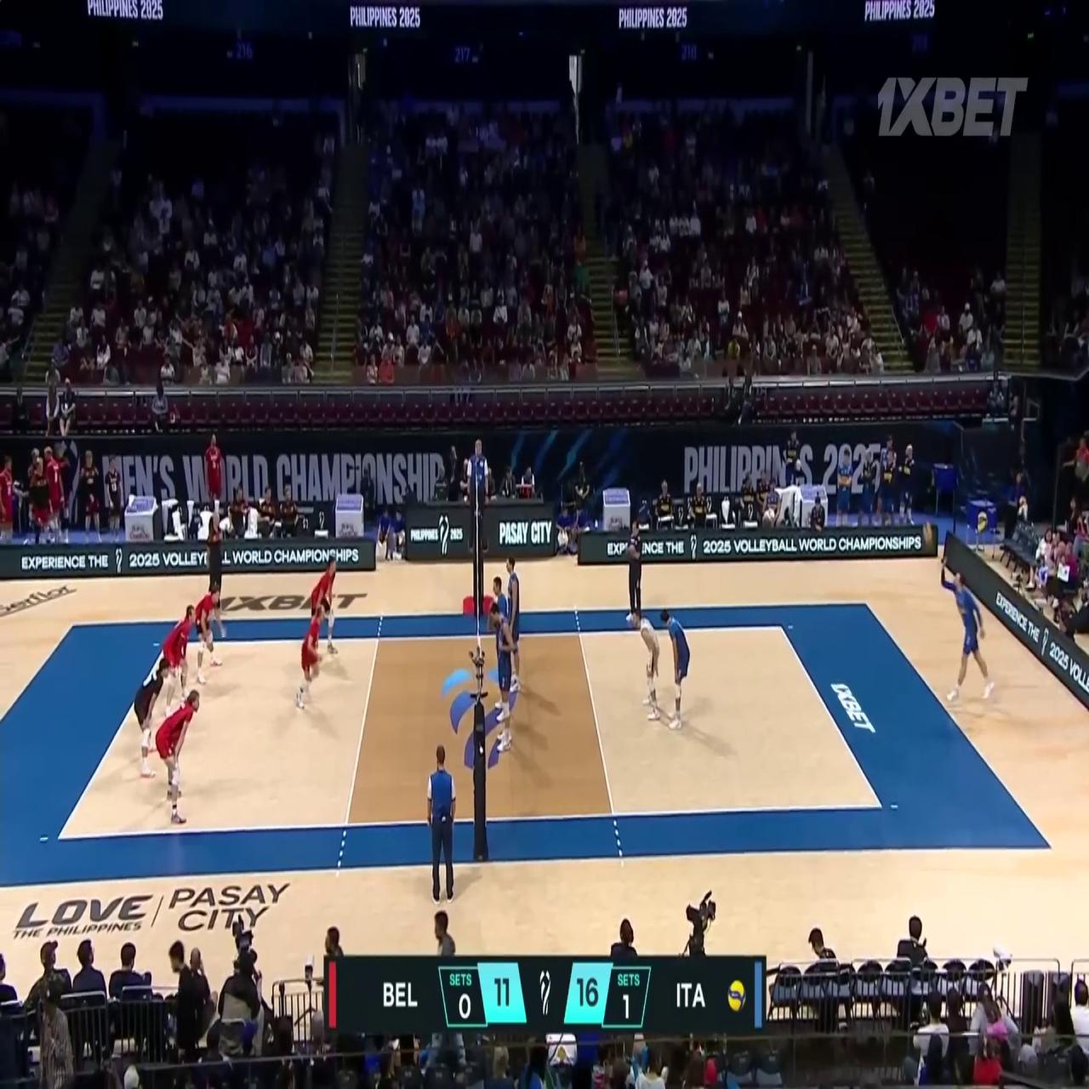ball: (924, 522, 932, 544)
